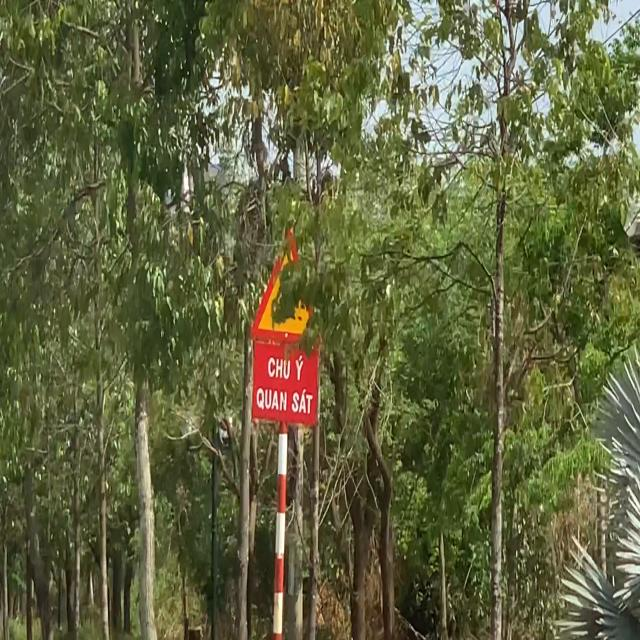Nguoi di bo cat ngang: (250, 216, 326, 342)
